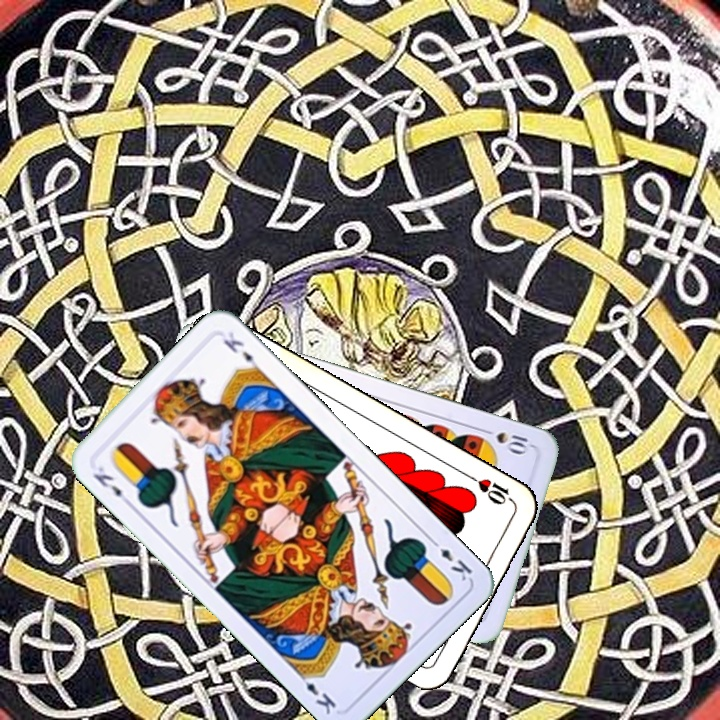EK: (426, 534, 475, 584), (89, 462, 135, 509)
H10: (465, 471, 518, 508)
S10: (477, 424, 534, 456)
